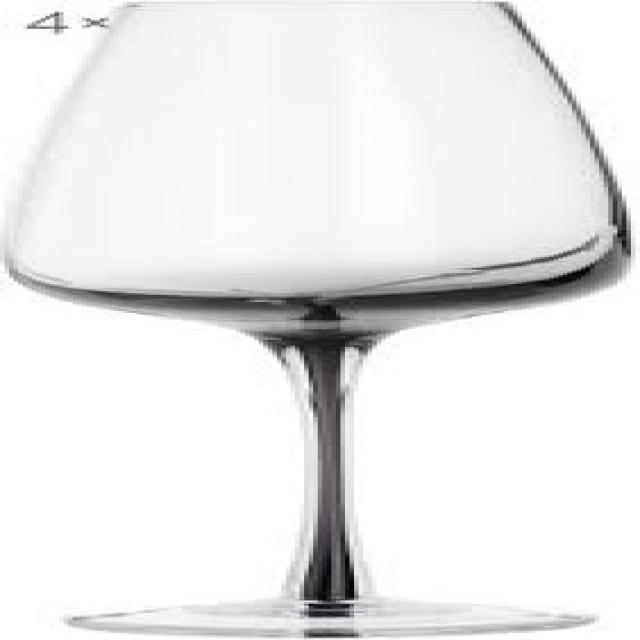glass: (0, 0, 622, 633)
